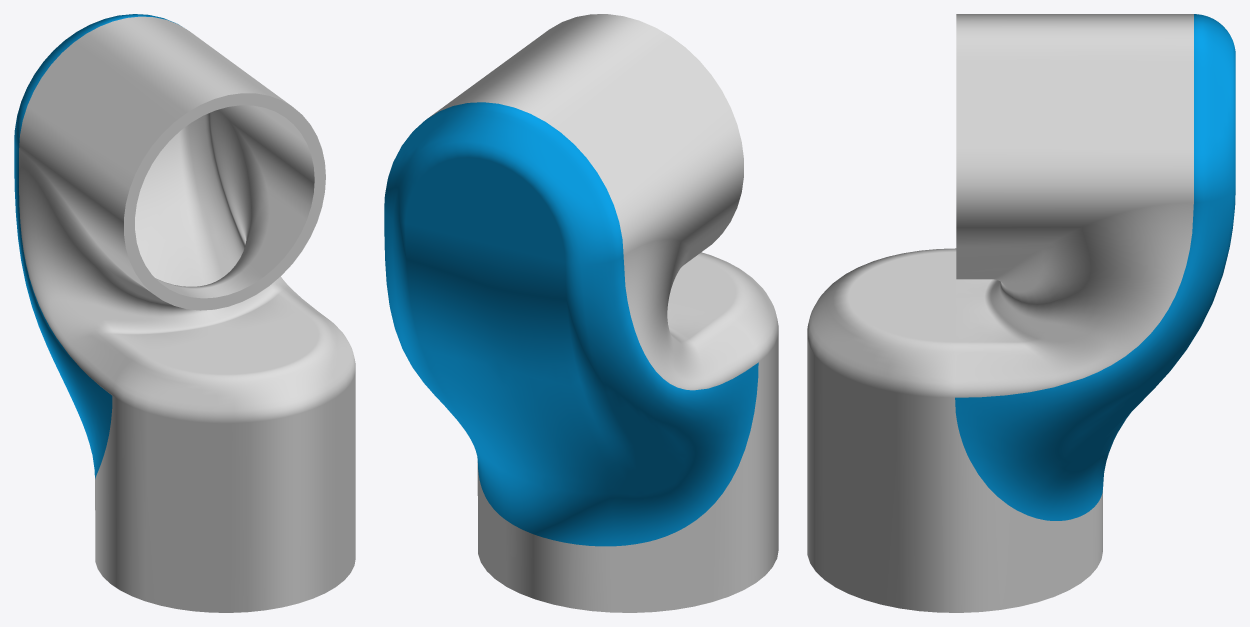
3 renders of one model, left to right at view 1: azimuth 30°, elevation 25°; view 2: azimuth 150°, elevation 25°; view 3: azimuth 270°, elevation 25°, orthographic. The views are drawn at different scales.
Parts seen in each view (by area): view 1: stitch_result_stitch_all; view 2: stitch_result_stitch_all; view 3: stitch_result_stitch_all.
Part boxes in pixels (x1=…): stitch_result_stitch_all: x1=14, y1=14, x2=355, y2=612; stitch_result_stitch_all: x1=384, y1=14, x2=778, y2=612; stitch_result_stitch_all: x1=807, y1=14, x2=1235, y2=612.
Size of the model in its own units: 0.106 by 0.1534 by 0.207.
